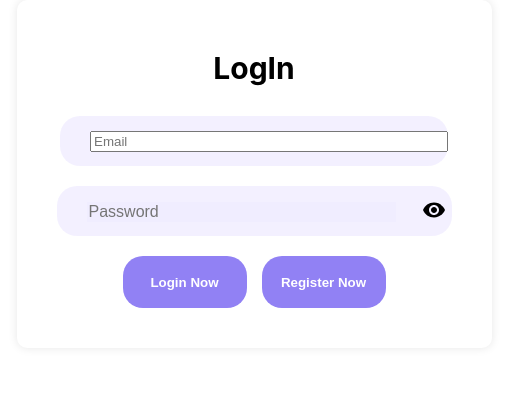
Scenario: Login Component › handles login failure
Step 1. Type "test@example.com" into the field with placeholder "Email" → x=269, y=142, box [90,131,448,152]
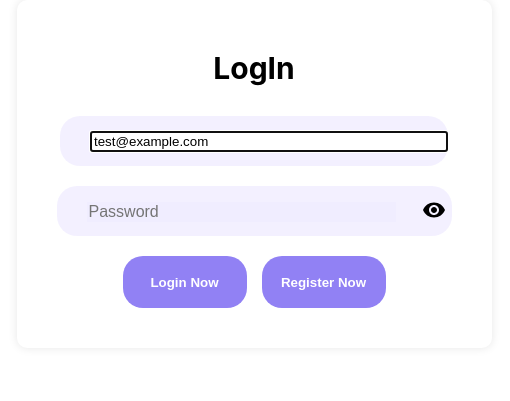
Step 2. Type "wrongpassword" into the password field with placeholder "Password" → x=241, y=212, box [86,202,396,222]
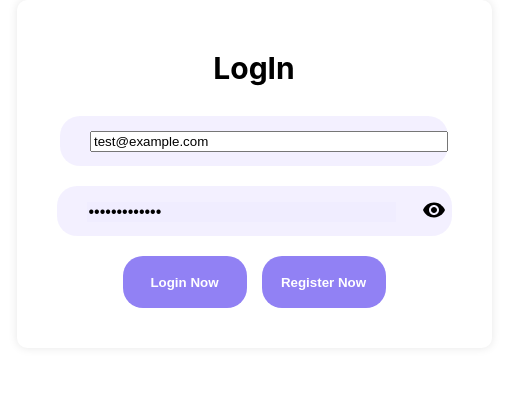
Step 3. Click the button "Login Now" → x=184, y=282, box [122,256,246,308]
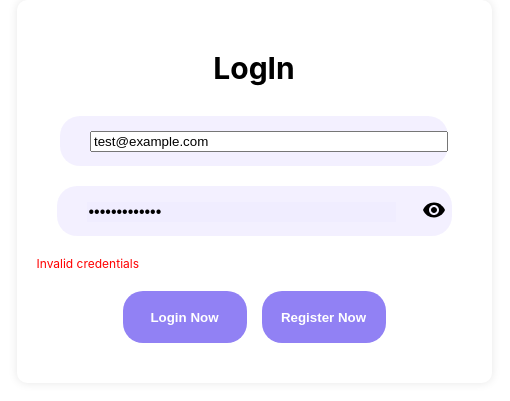
Result: the text "Invalid credentials" is shown at [36,256,139,271]
